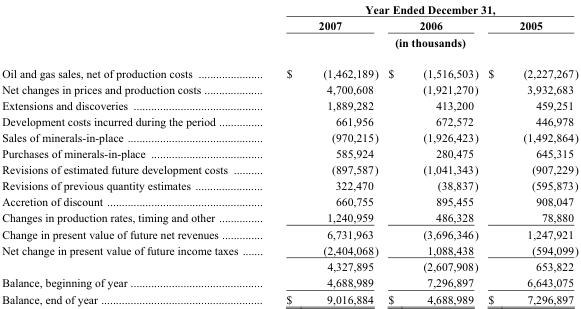table: (1, 0, 577, 306)
table column: (1, 0, 261, 306), (261, 0, 382, 306), (382, 0, 482, 306), (482, 0, 577, 306)
table column header: (1, 0, 577, 57)
table row: (1, 33, 577, 57), (1, 57, 577, 81), (1, 16, 577, 33), (1, 257, 577, 274), (1, 0, 577, 16), (1, 81, 577, 97), (1, 97, 577, 113), (1, 113, 577, 129), (1, 129, 577, 145), (1, 145, 577, 161), (1, 161, 577, 177), (1, 177, 577, 193), (1, 193, 577, 209), (1, 209, 577, 225), (1, 225, 577, 241), (1, 241, 577, 257), (1, 274, 577, 290), (1, 290, 577, 306)
table spanning cell: (261, 33, 577, 57), (261, 0, 577, 16)
